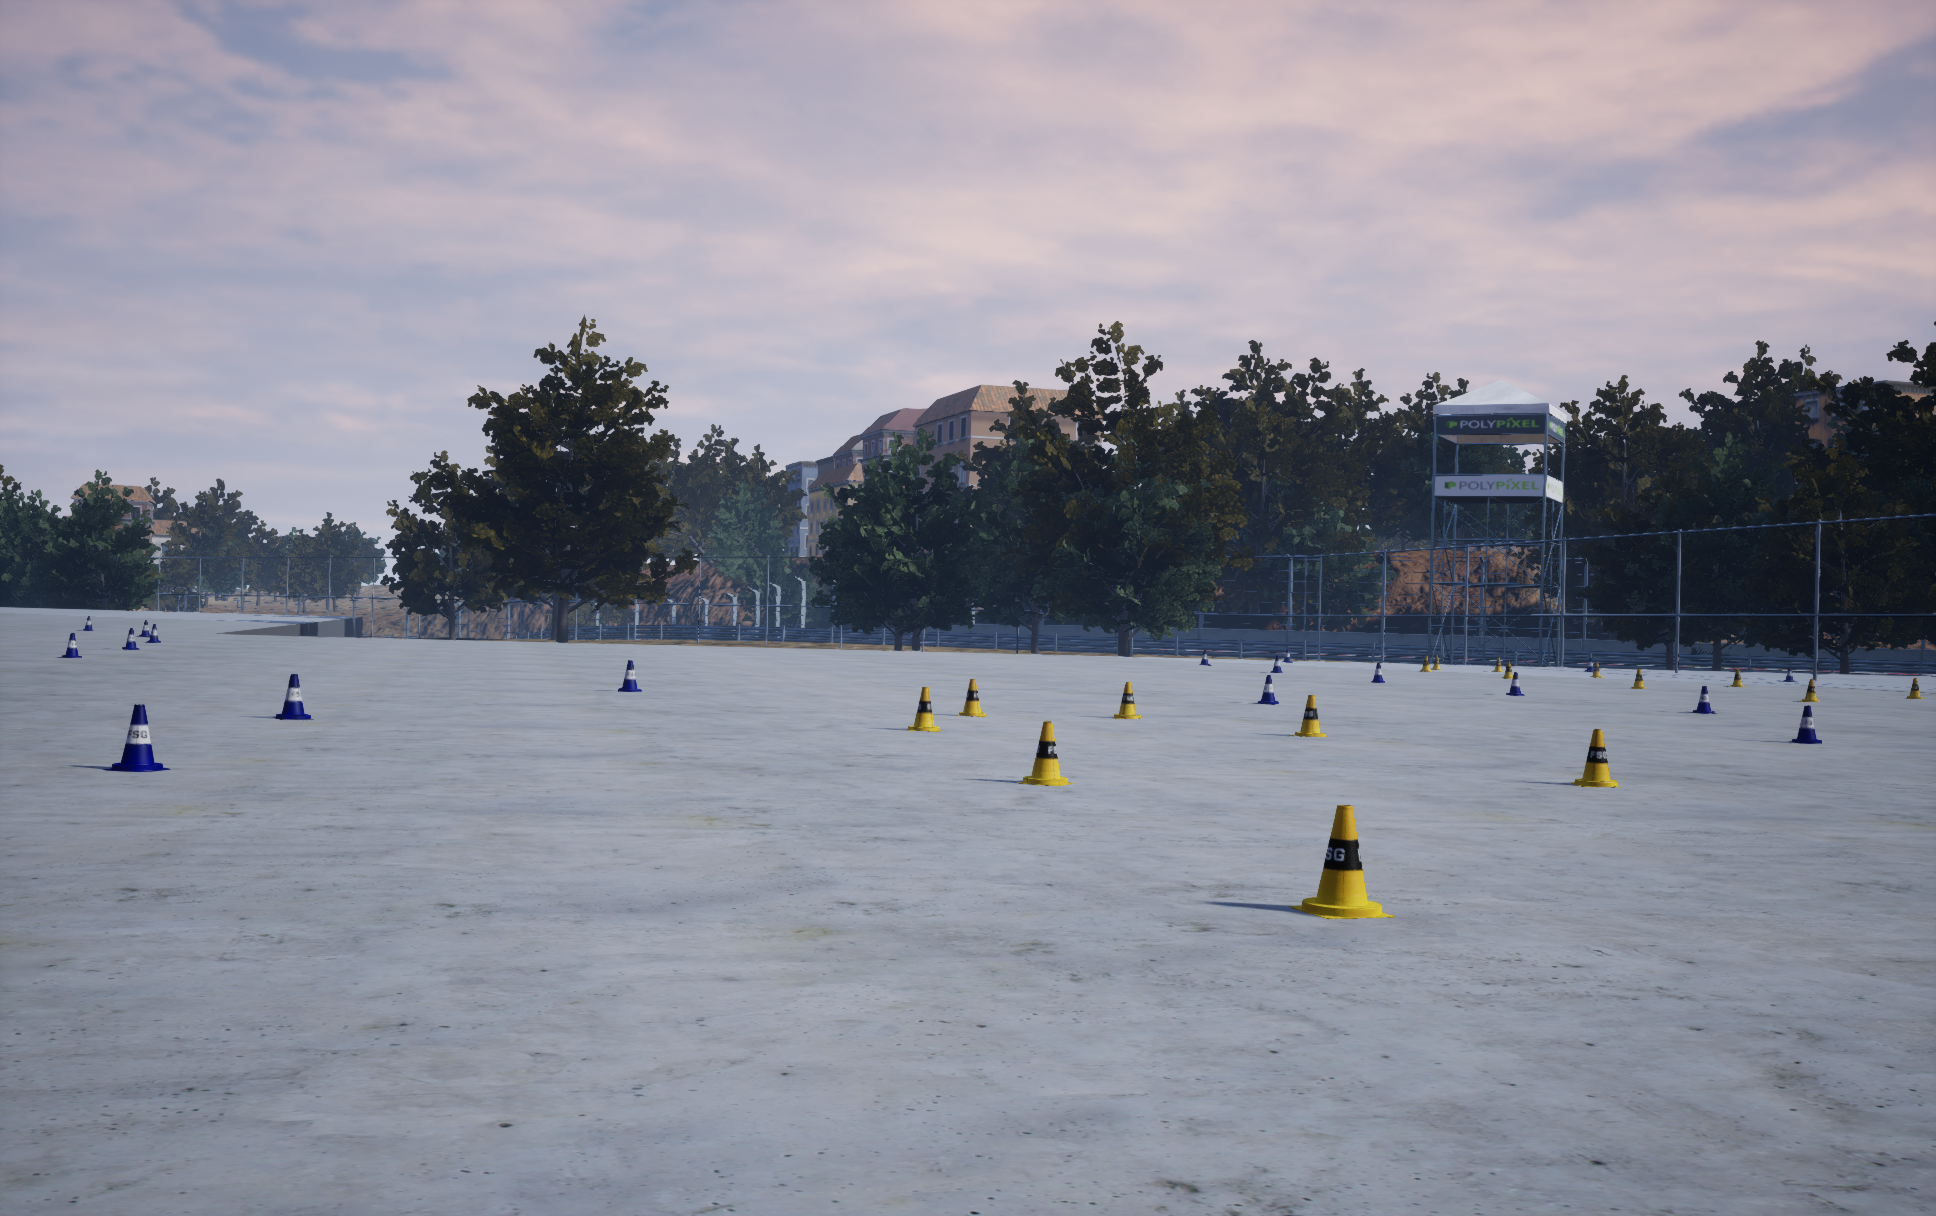blue: (1289, 806, 1395, 918), (1017, 721, 1074, 785), (1570, 728, 1621, 787), (906, 686, 940, 731), (1290, 695, 1327, 735), (955, 679, 986, 716), (1114, 682, 1140, 719), (1799, 679, 1818, 700), (1907, 678, 1922, 698), (1631, 670, 1645, 688)
yellow: (104, 705, 170, 771), (273, 674, 312, 719), (1789, 705, 1821, 742), (618, 660, 642, 691), (1689, 686, 1716, 713), (1254, 675, 1278, 705), (57, 633, 81, 657), (1506, 672, 1524, 695), (122, 628, 139, 649), (1371, 663, 1384, 682)
